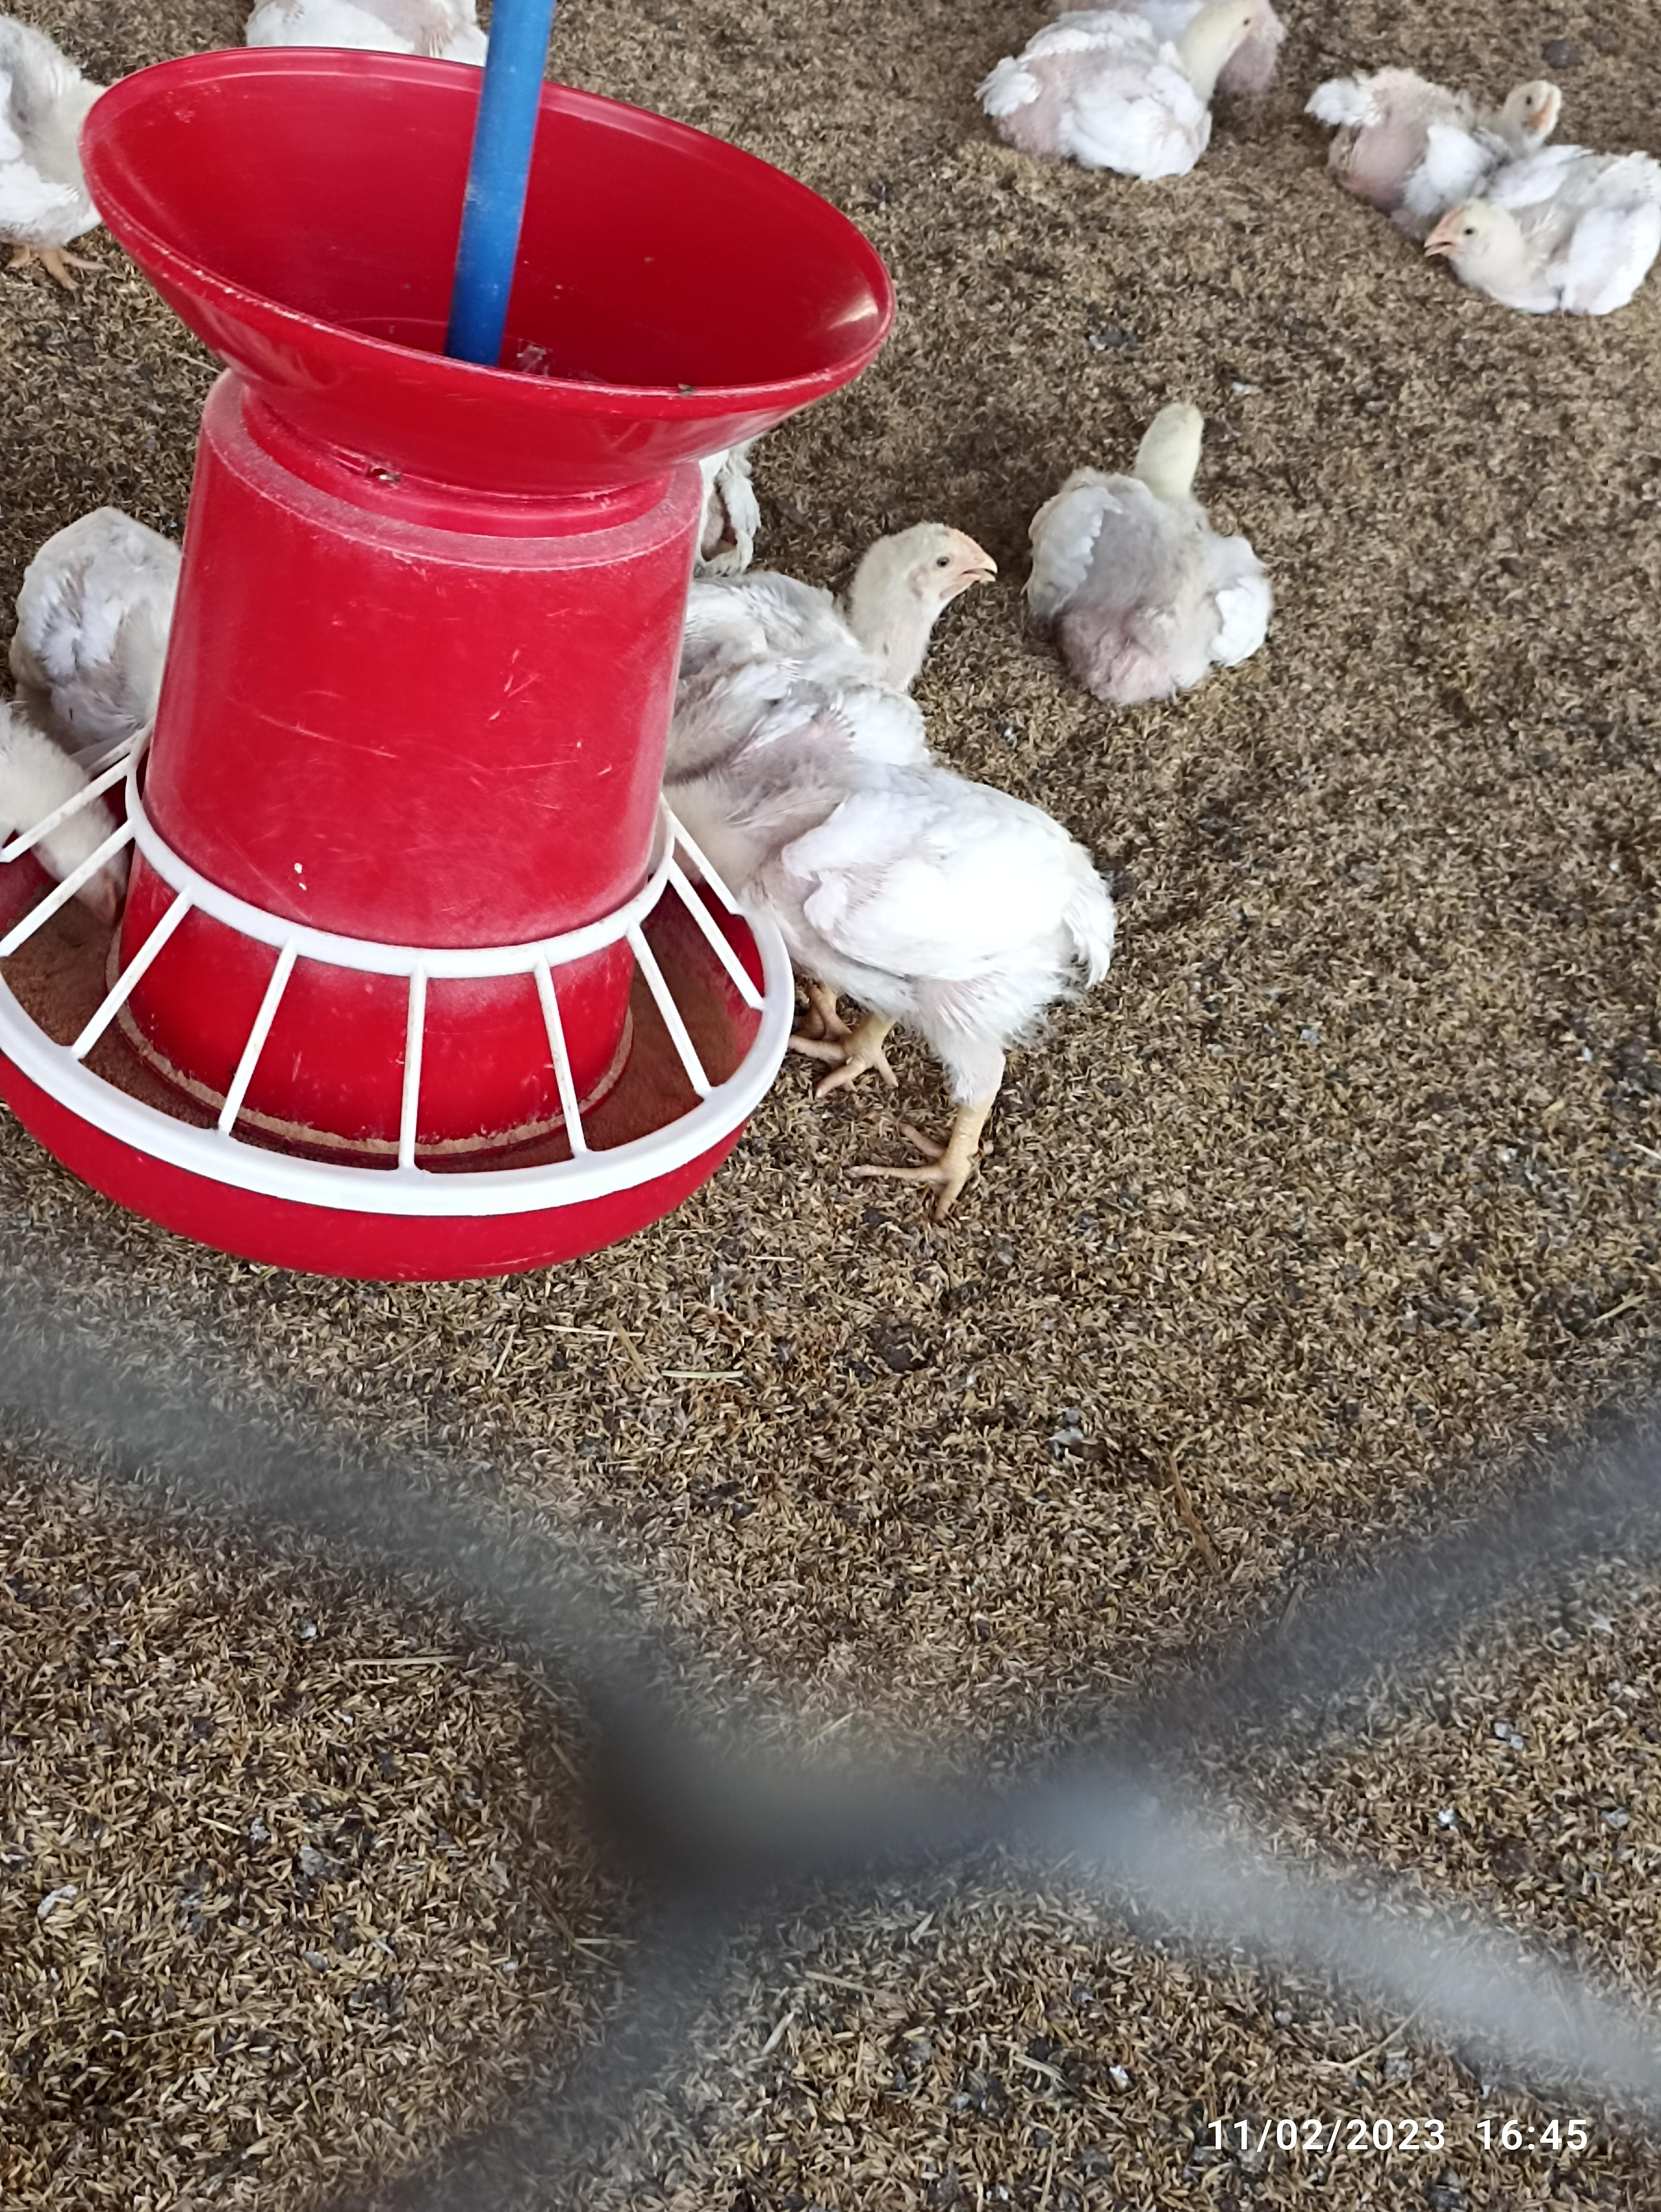Pollos: (677, 509, 993, 816), (1035, 384, 1284, 701), (996, 0, 1281, 169), (1439, 134, 1658, 297), (1321, 51, 1574, 152)
